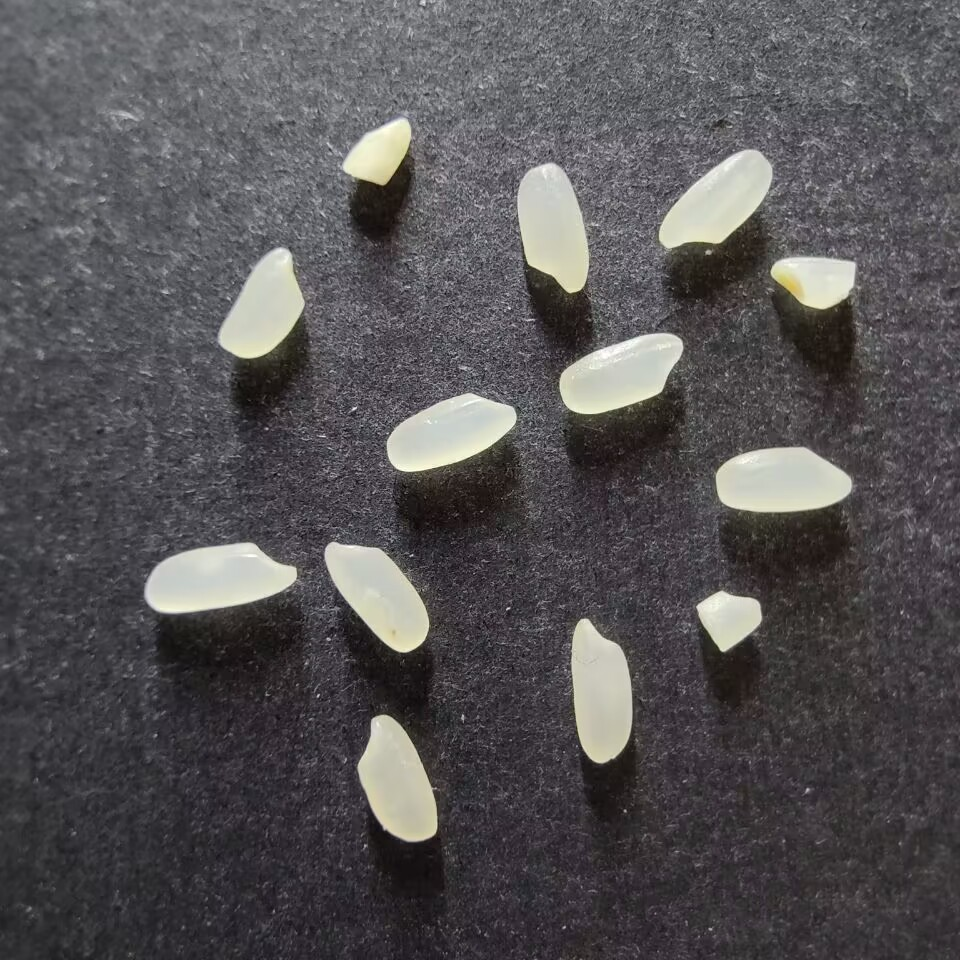broken: (341, 117, 412, 187), (769, 256, 856, 308), (695, 590, 763, 653)
rice: (322, 541, 429, 653), (657, 148, 773, 248), (143, 543, 298, 614), (558, 331, 684, 415), (385, 392, 517, 472), (357, 713, 438, 843), (216, 246, 305, 358), (516, 162, 589, 293), (569, 618, 633, 764), (714, 447, 853, 513)
